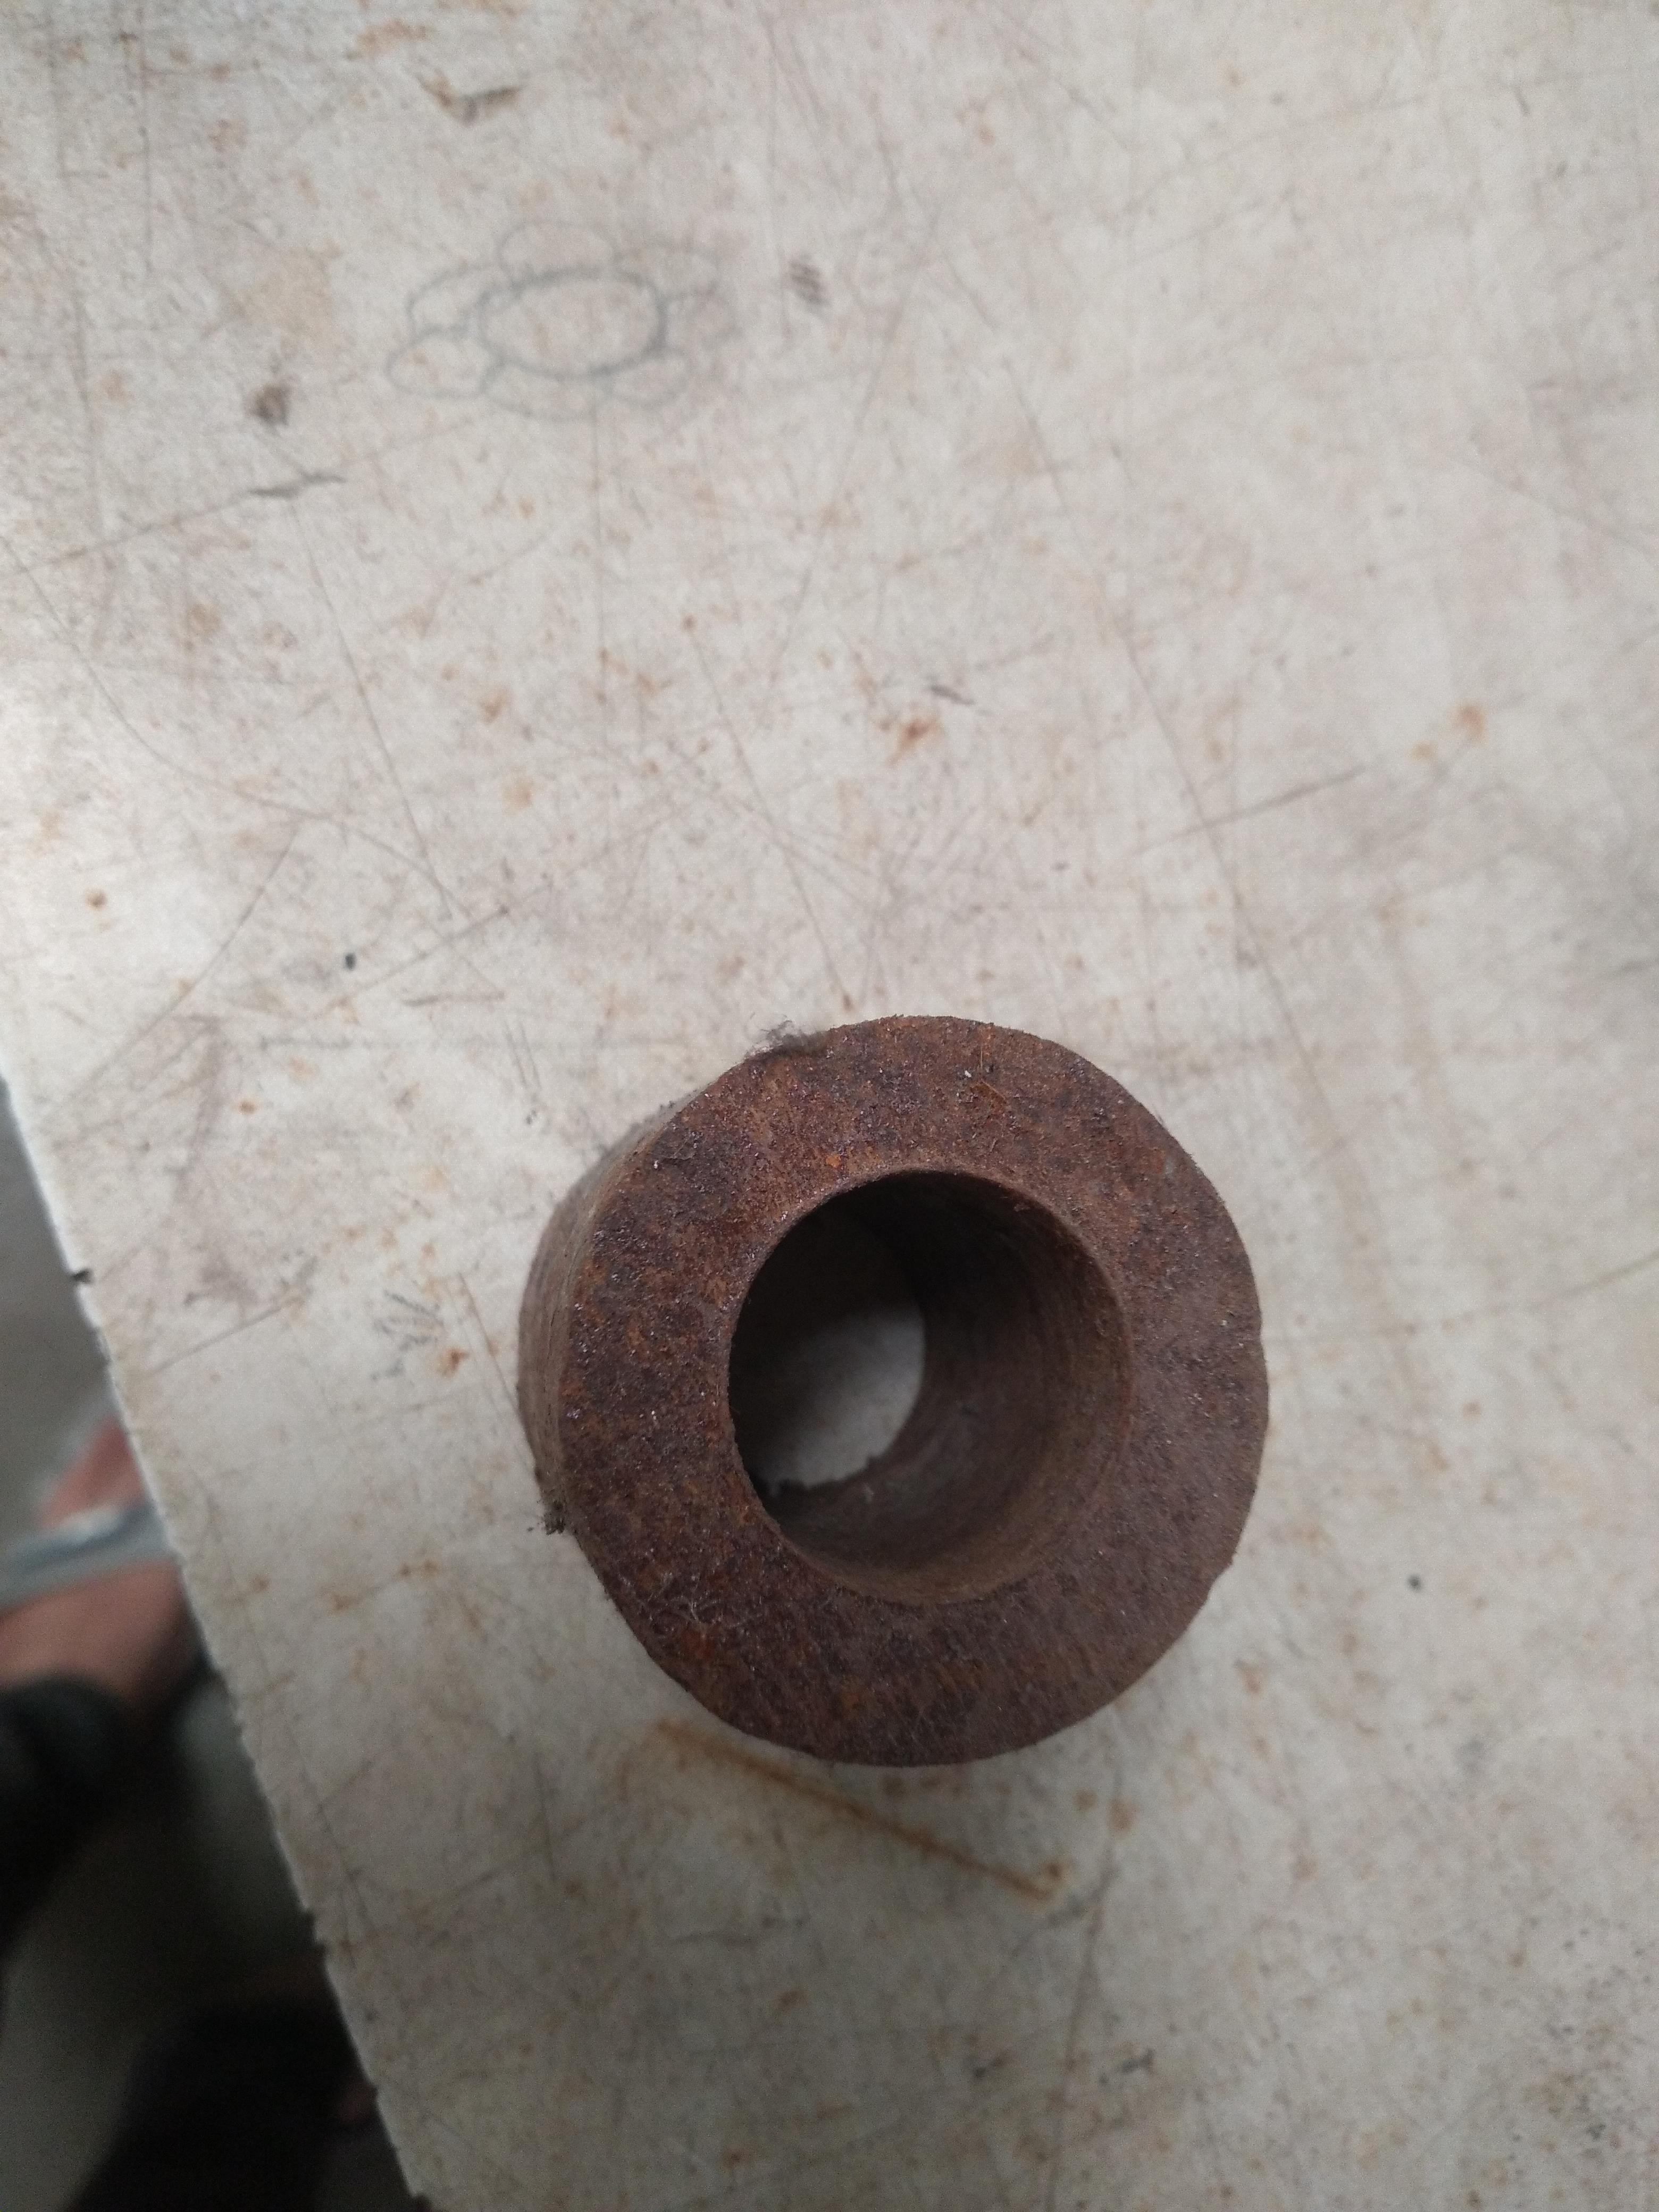No thread: (671, 1111, 1173, 1623)
